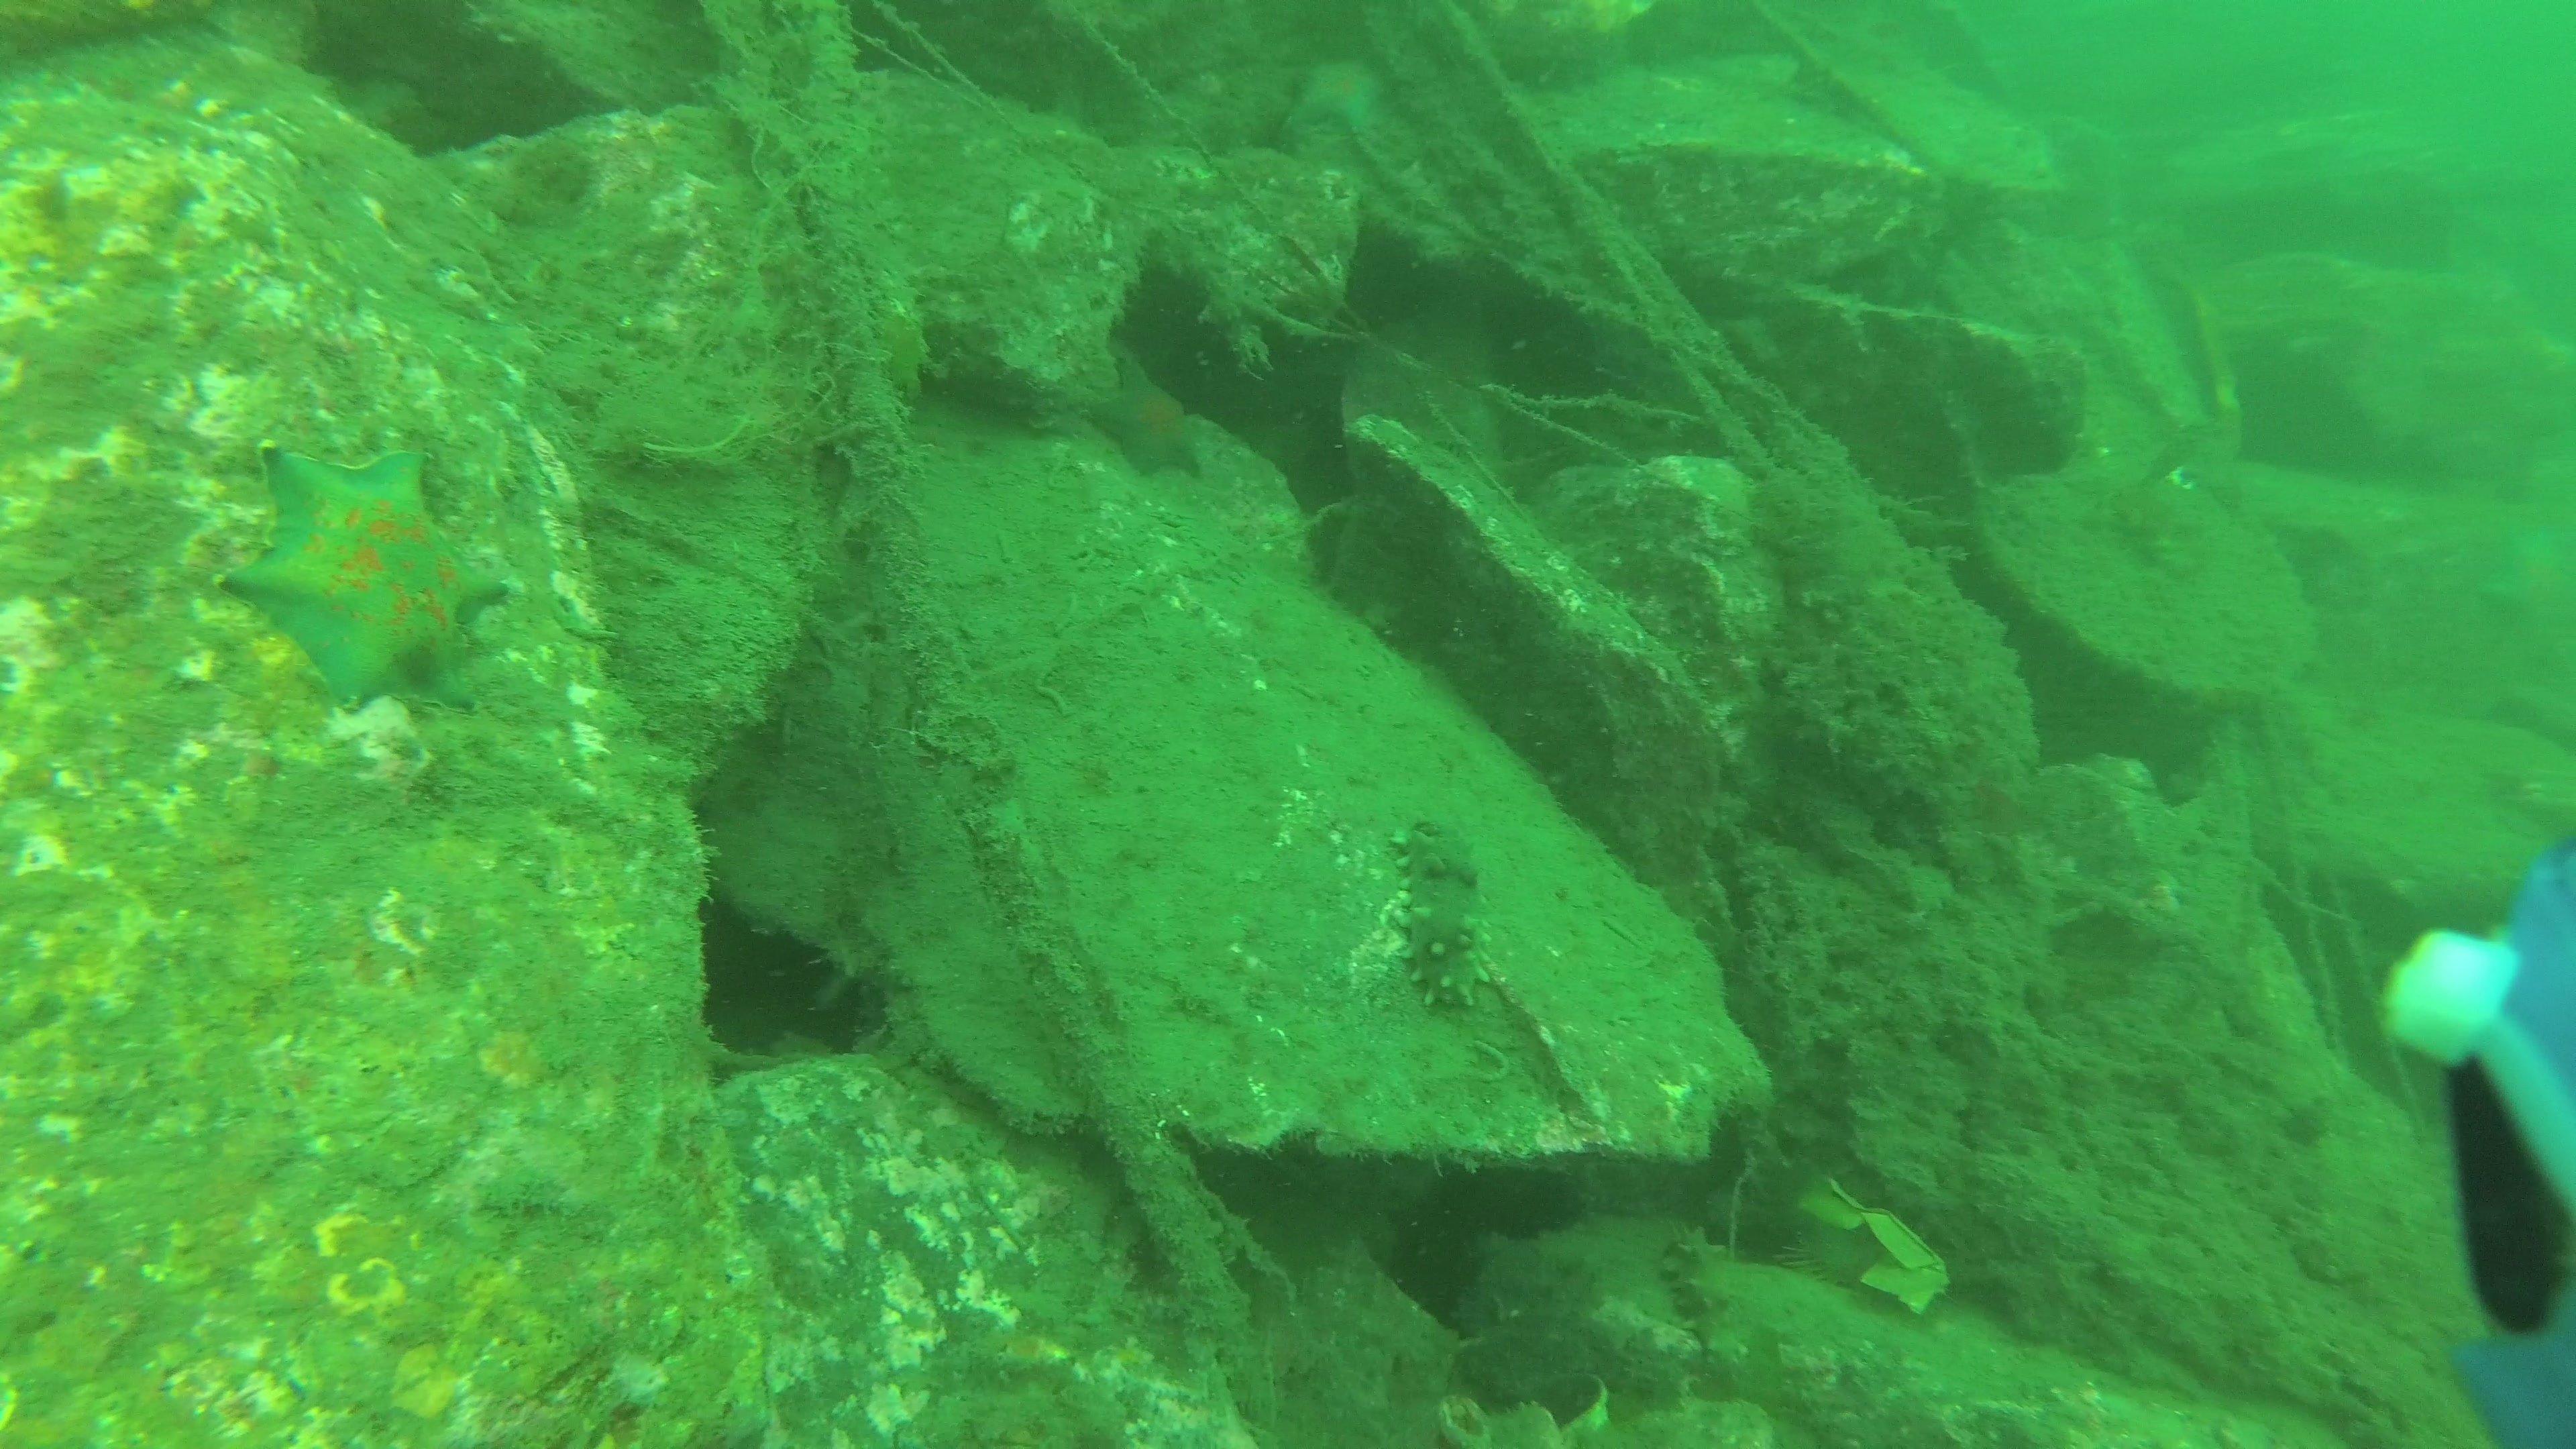holothurian: (1385, 801, 1500, 1030)
starfish: (209, 433, 520, 717), (1070, 333, 1208, 495)
